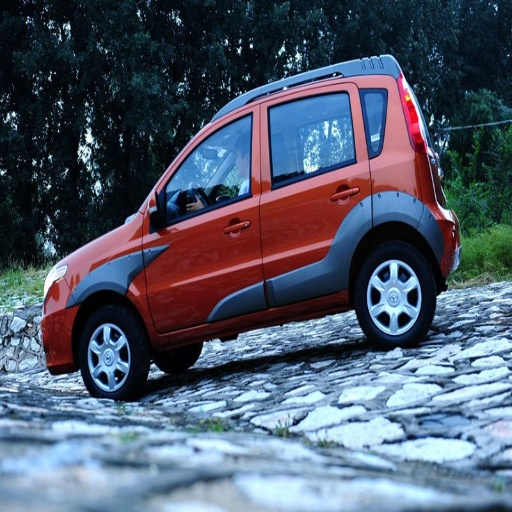back_left_door: (260, 82, 370, 303)
front_left_door: (143, 102, 267, 334)
